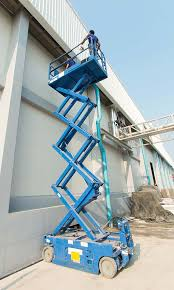Scissor Lift: (41, 37, 135, 280)
